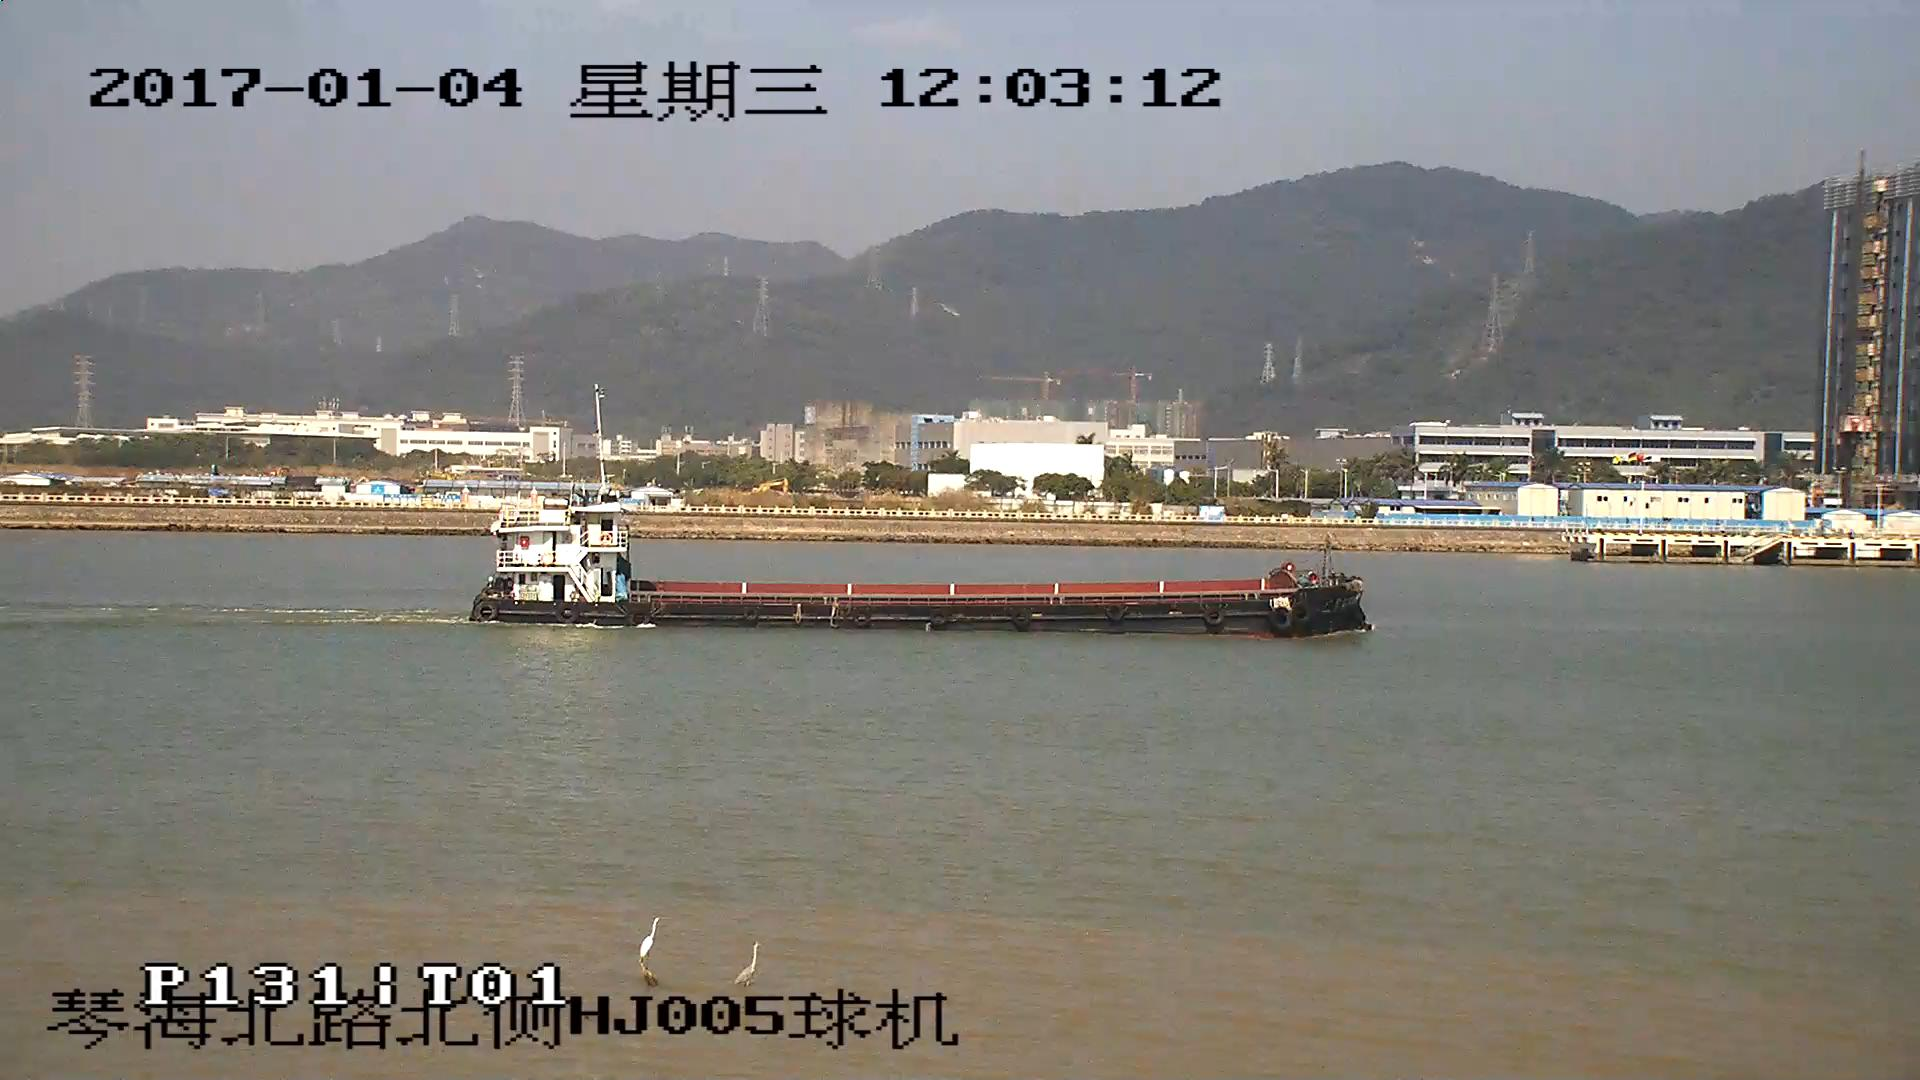general cargo ship: (472, 499, 1372, 638)
